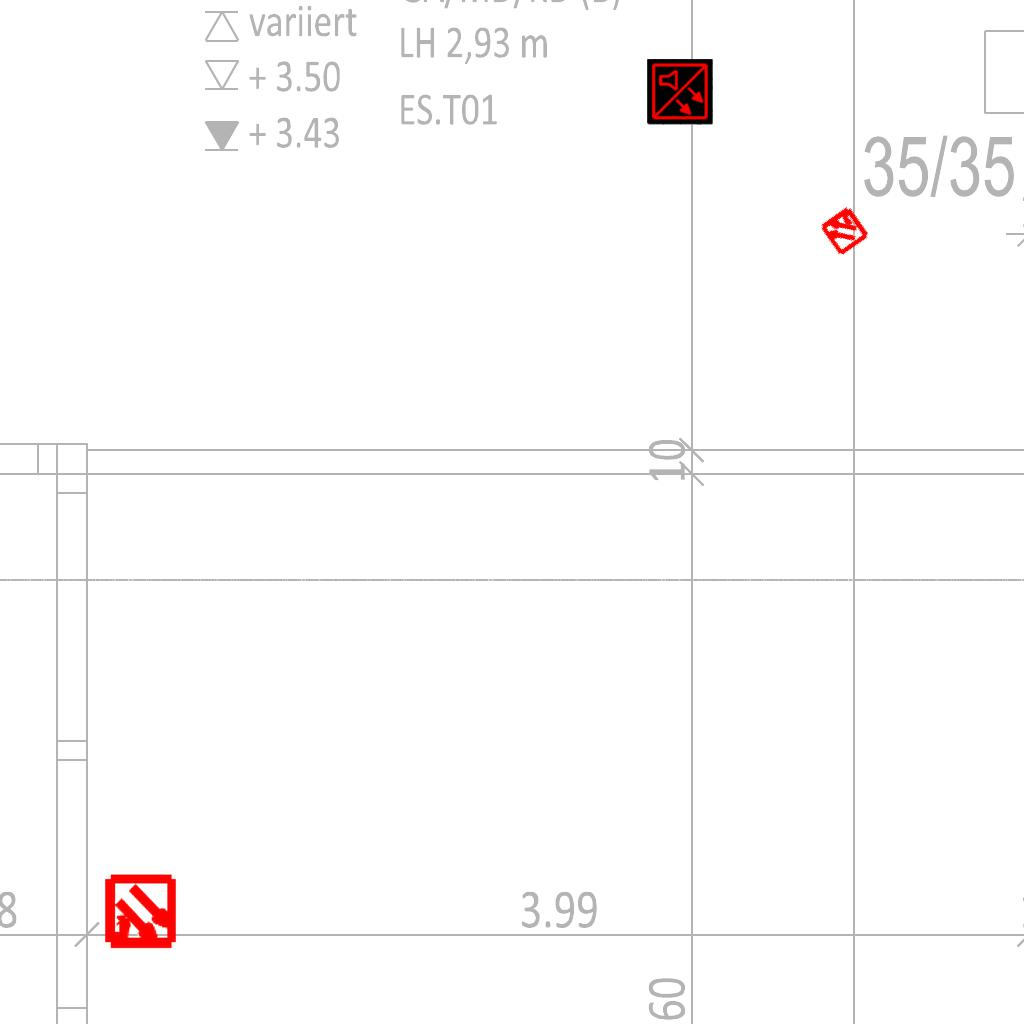OKW_Multisensormelder_(Kombination_optischer_Rauch-Kahlenmonoxid_Waerme-Melder): (647, 59, 713, 125)
OT_Multisensormelder_(Kombination_RMO_WMD): (84, 857, 197, 970), (805, 191, 883, 269)
